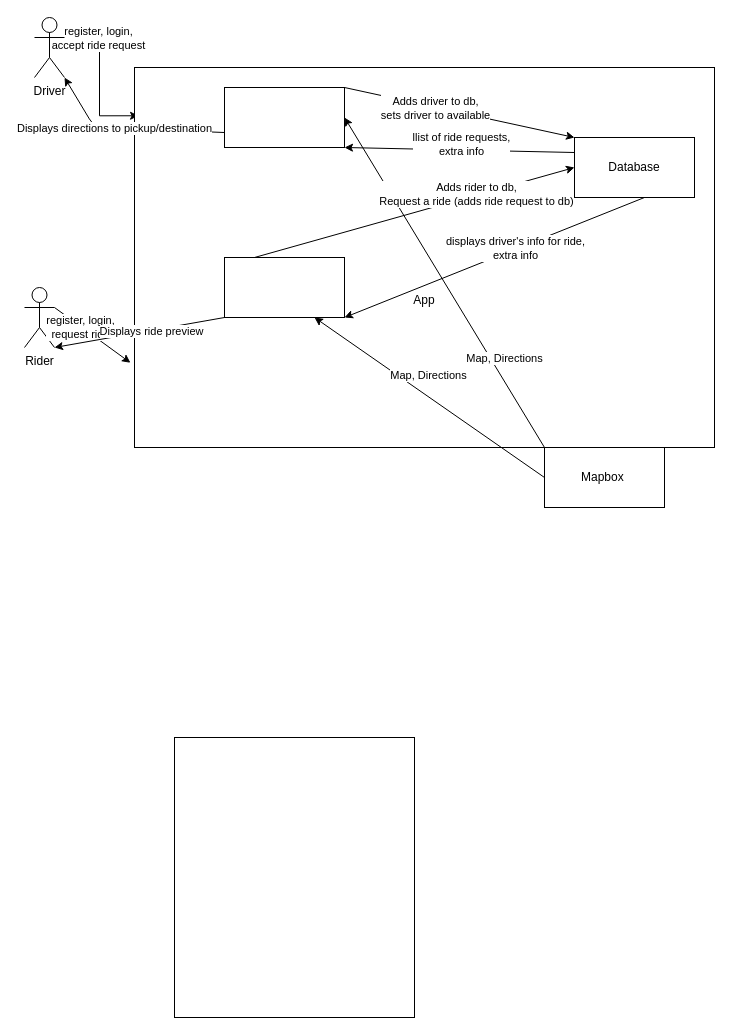
This 732x1035 diagram has some shape labels left out. The centre of each missing label's shape, as x and y in pixels:
Driver part: the point at 284,117
Rider part: the point at 284,287
